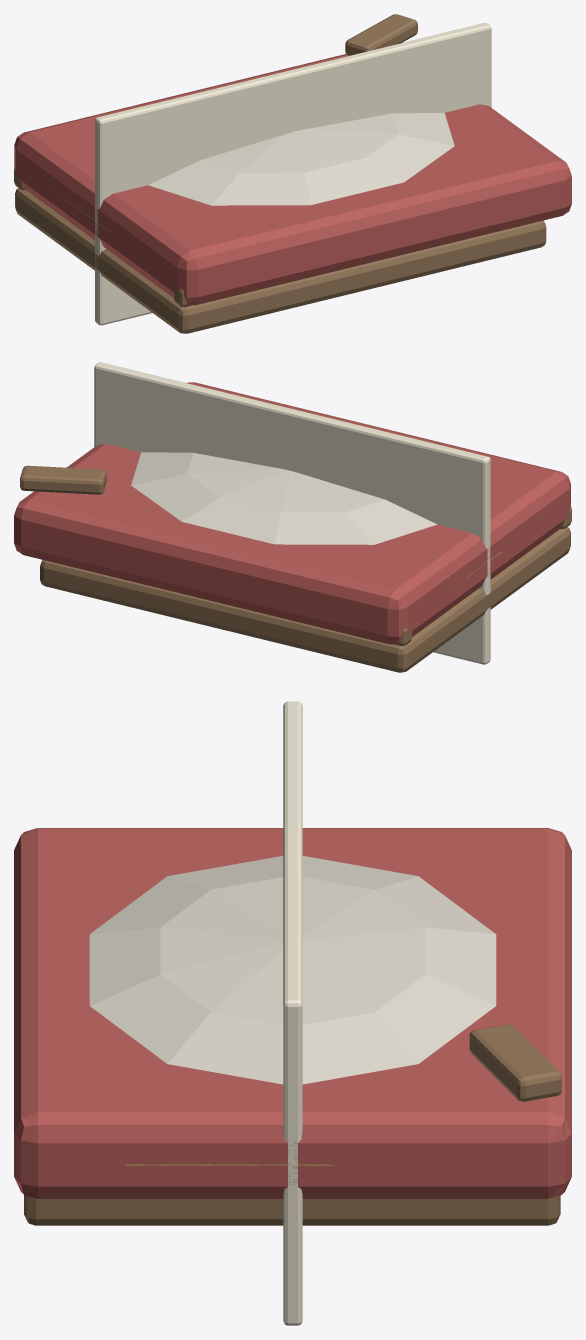
Rendered from gold_leaf_cushion.glb.
3 views of the same model, one above another, from view 1: azimuth 30°, elevation 25°; view 2: azimuth 150°, elevation 25°; view 3: azimuth 270°, elevation 25° (orthographic). The views are drawn at different scales.
Visible parts, largest first — view 1: 091-gold-leaf-cushion/5, 091-gold-leaf-cushion/2, 091-gold-leaf-cushion/1, 091-gold-leaf-cushion/0; view 2: 091-gold-leaf-cushion/5, 091-gold-leaf-cushion/2, 091-gold-leaf-cushion/1, 091-gold-leaf-cushion/0; view 3: 091-gold-leaf-cushion/5, 091-gold-leaf-cushion/1, 091-gold-leaf-cushion/0, 091-gold-leaf-cushion/2.
Part boxes in pixels (x1=…): 091-gold-leaf-cushion/5: x1=14, y1=54, x2=571, y2=305; 091-gold-leaf-cushion/2: x1=95, y1=23, x2=491, y2=325; 091-gold-leaf-cushion/1: x1=148, y1=113, x2=454, y2=205; 091-gold-leaf-cushion/0: x1=14, y1=14, x2=546, y2=333; 091-gold-leaf-cushion/5: x1=14, y1=382, x2=570, y2=644; 091-gold-leaf-cushion/2: x1=94, y1=362, x2=490, y2=664; 091-gold-leaf-cushion/1: x1=131, y1=452, x2=437, y2=544; 091-gold-leaf-cushion/0: x1=20, y1=465, x2=571, y2=672; 091-gold-leaf-cushion/5: x1=14, y1=828, x2=571, y2=1198; 091-gold-leaf-cushion/1: x1=89, y1=856, x2=496, y2=1084; 091-gold-leaf-cushion/0: x1=24, y1=1024, x2=561, y2=1225; 091-gold-leaf-cushion/2: x1=283, y1=701, x2=302, y2=1325.
Bounding box in the file's own units: 2 × 1 × 1.56.
